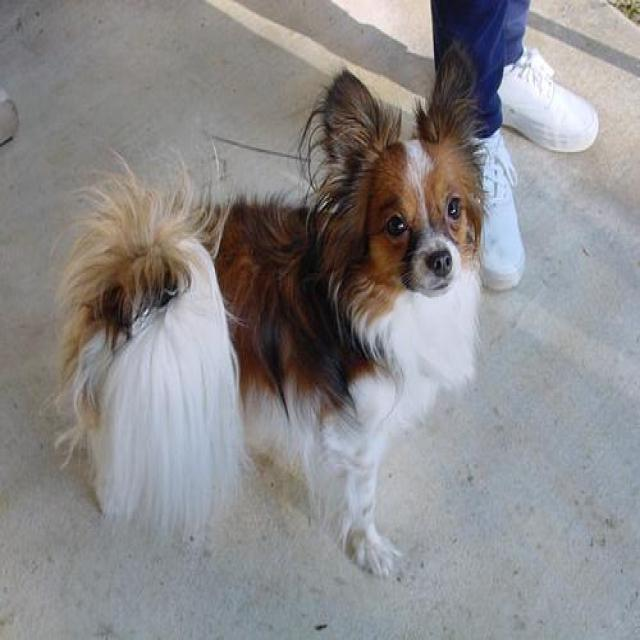papillon: (58, 44, 484, 586)
